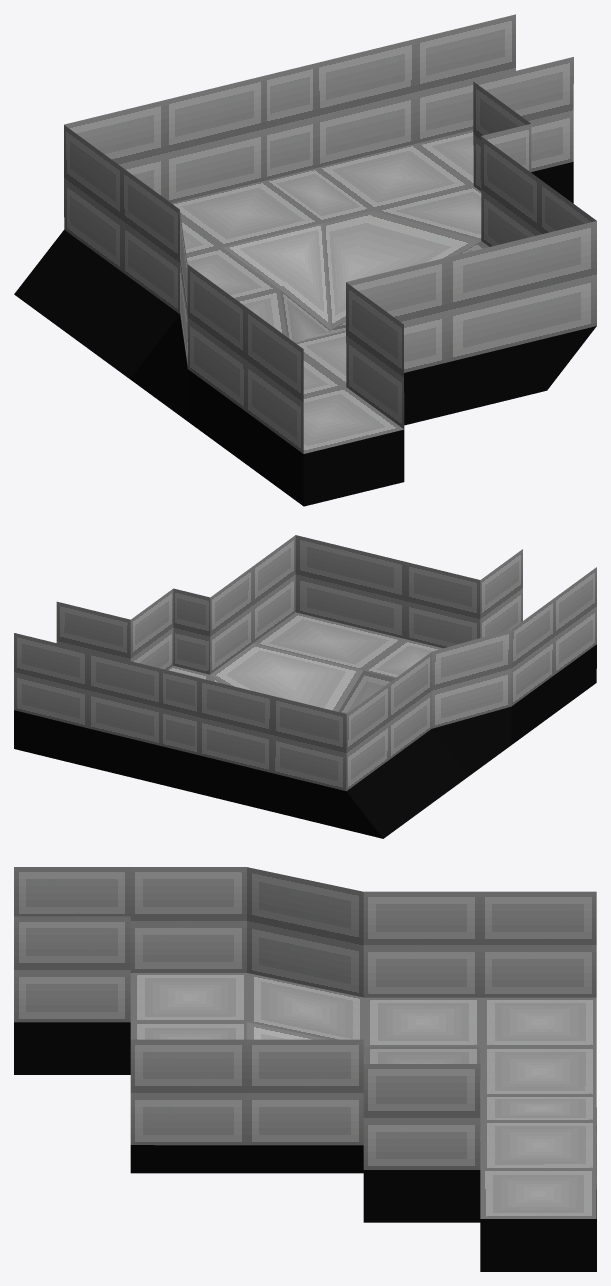
File: FunkyLishTurn.gltf
3 views of the same model, one above another, from view 1: azimuth 30°, elevation 25°; view 2: azimuth 150°, elevation 25°; view 3: azimuth 270°, elevation 25° (orthographic). The views are drawn at different scales.
Visible parts, largest first — view 1: FunkyLishTurn; view 2: FunkyLishTurn; view 3: FunkyLishTurn.
Part boxes in pixels (<box>): FunkyLishTurn: <box>14,14,596,506</box>; FunkyLishTurn: <box>14,535,596,838</box>; FunkyLishTurn: <box>14,867,596,1271</box>.
Size of the model in its own units: 10 by 3 by 10.
2 materials, 1 textured.
